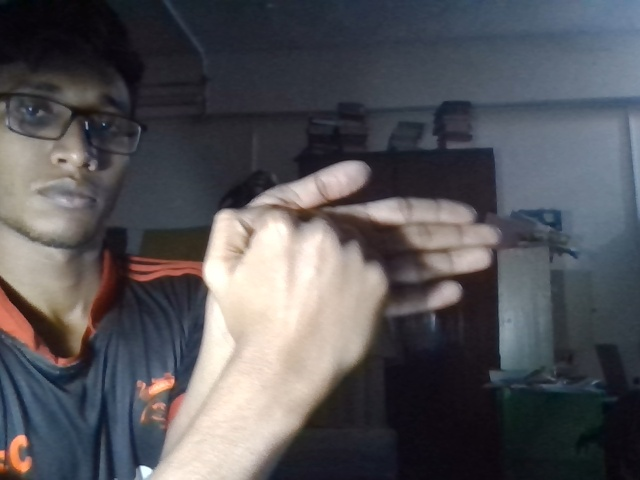b: (190, 154, 507, 374)
